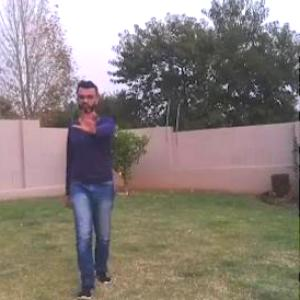follow_hand: (70, 103, 103, 135)
